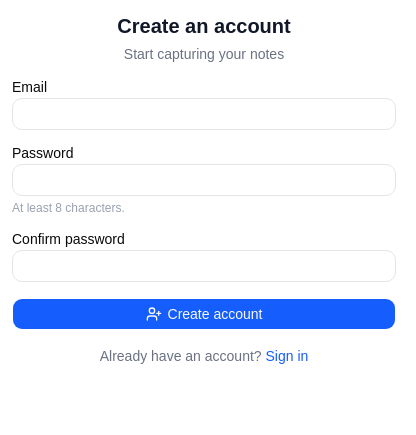
RegisterForm › blocks submission and shows a validation error when the password is too short
Step 1. Type "a@b.com" into the field labelled "Email" → (204, 114), box [12, 98, 396, 130]
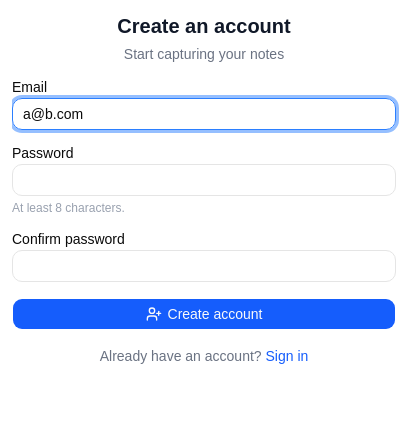
Step 2. Type "short1" into the password field labelled "Password" → (204, 180), box [12, 164, 396, 196]
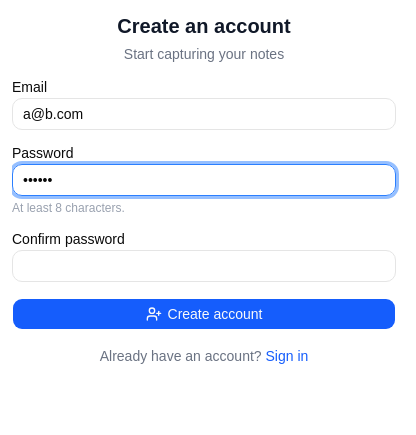
Step 3. Type "short1" into the password field labelled "Confirm password" → (204, 266), box [12, 250, 396, 282]
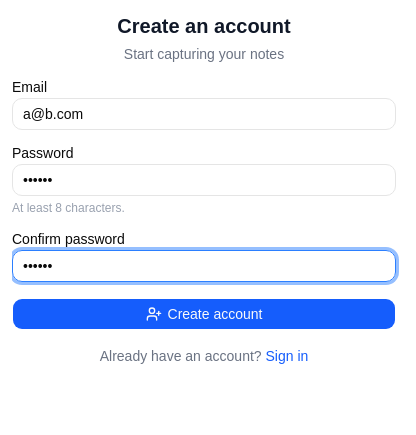
Step 4. Click the button "Create account" → (204, 314), box [12, 298, 396, 330]
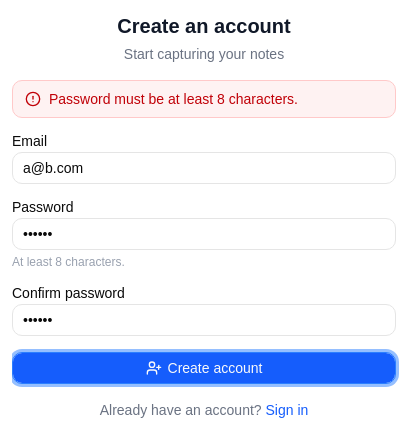
Check: the text "Password must be at least 8 characters." is shown, box [49, 89, 298, 109]
